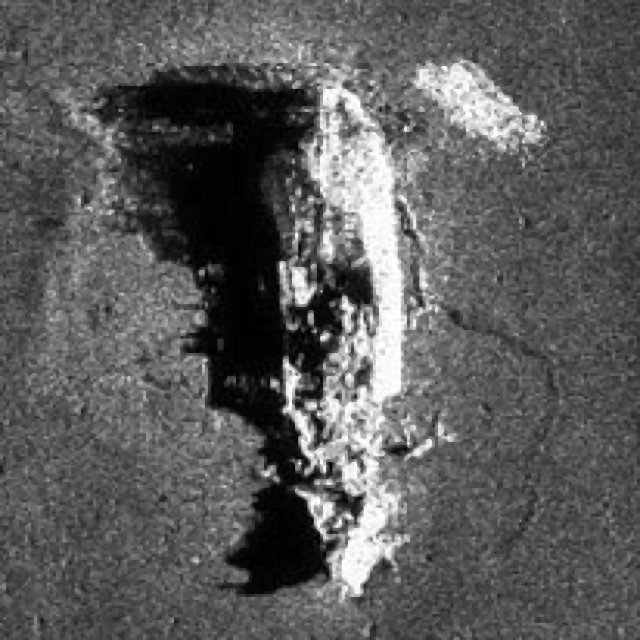Ship: (235, 36, 444, 613)
